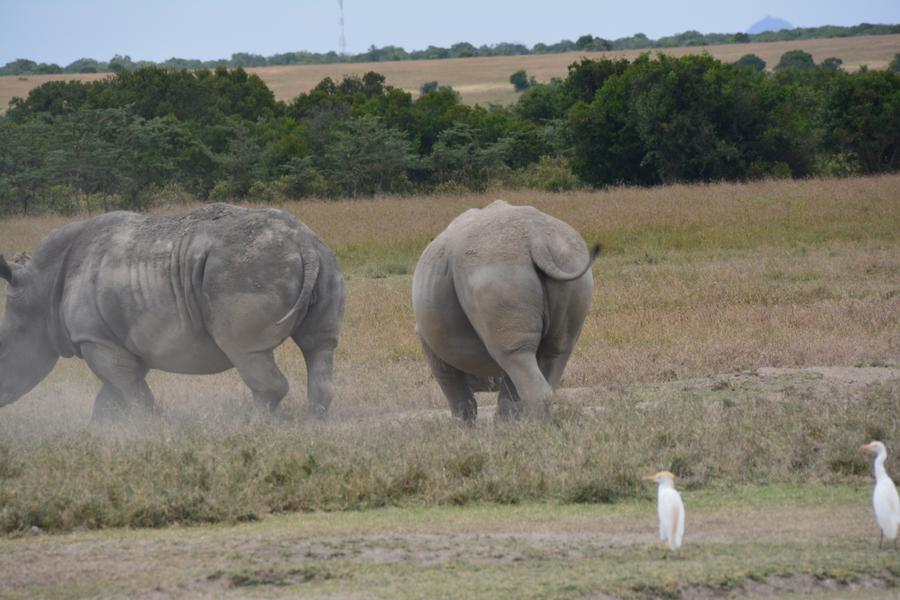rhino: (19, 202, 333, 384), (401, 202, 604, 398)
